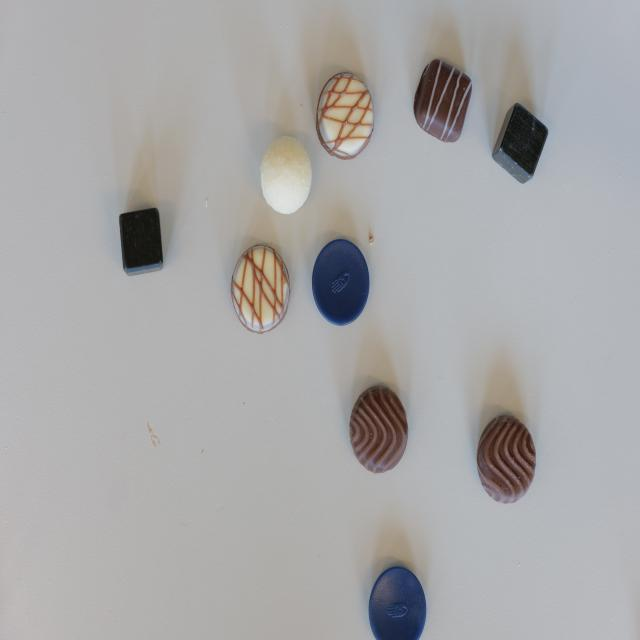Comtesse: (261, 135, 311, 213)
Creme_brulee: (231, 243, 290, 333), (317, 70, 375, 158)
Noir_authentique: (476, 413, 536, 505), (351, 384, 408, 474)
Stracciatella: (414, 59, 472, 144)
